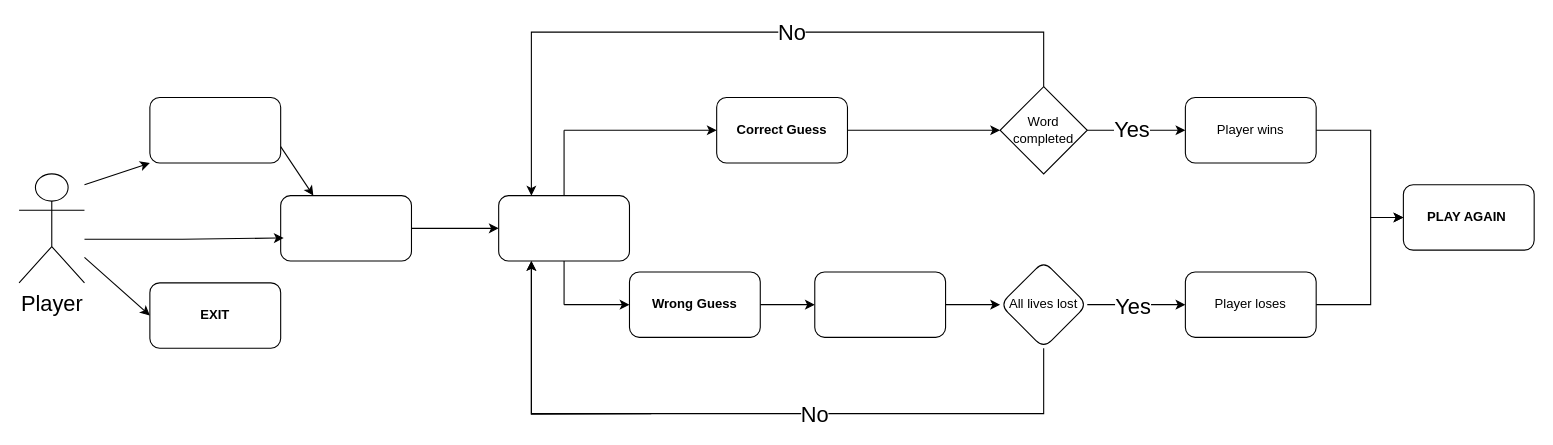
Image size: 1553x445. Some labels were removed from this diagram. The centre of each missing label's shape, as x and y in pixels:
"GUESSWORD" belongs at point 563,228.
"Hangman is drawn" belongs at point 880,304.
"PLAY GAME" belongs at point 345,228.
"START GAME" belongs at point 215,129.
